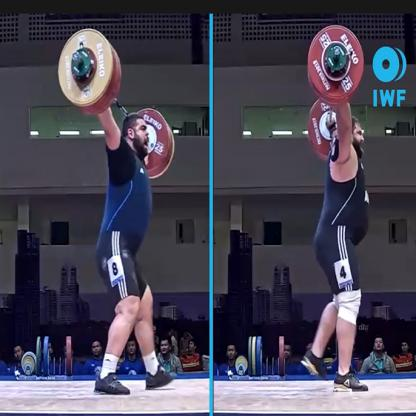Barbell: (51, 20, 127, 123), (305, 18, 371, 111)
